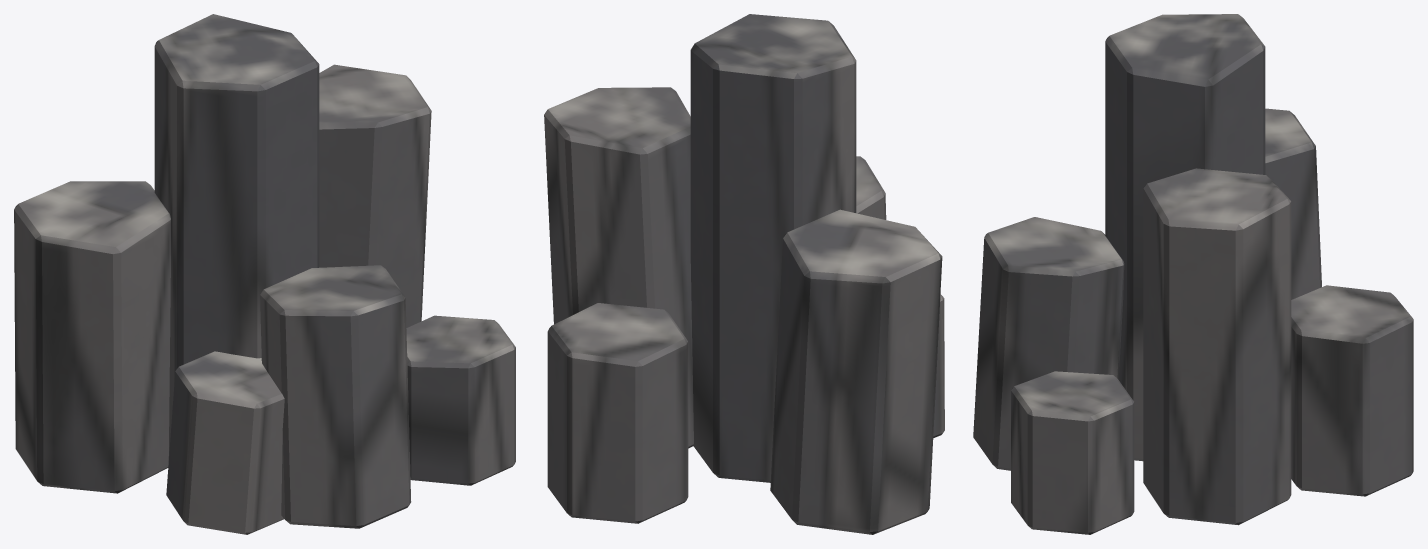
File: basalt_rock_a.gltf
The picture shows the model from 3 angles, left to right: view 1: azimuth 30°, elevation 25°; view 2: azimuth 150°, elevation 25°; view 3: azimuth 270°, elevation 25°; orthographic projection. The views are drawn at different scales.
Visible parts, largest first — view 1: basalt_rock_a; view 2: basalt_rock_a; view 3: basalt_rock_a.
Part boxes in pixels (left/top/right/bottom): basalt_rock_a: left=14, top=14, right=515, bottom=534; basalt_rock_a: left=544, top=14, right=944, bottom=534; basalt_rock_a: left=973, top=14, right=1413, bottom=534.
Size of the model in its own units: 1.38 by 1.38 by 1.37.
1 material, 1 textured.
